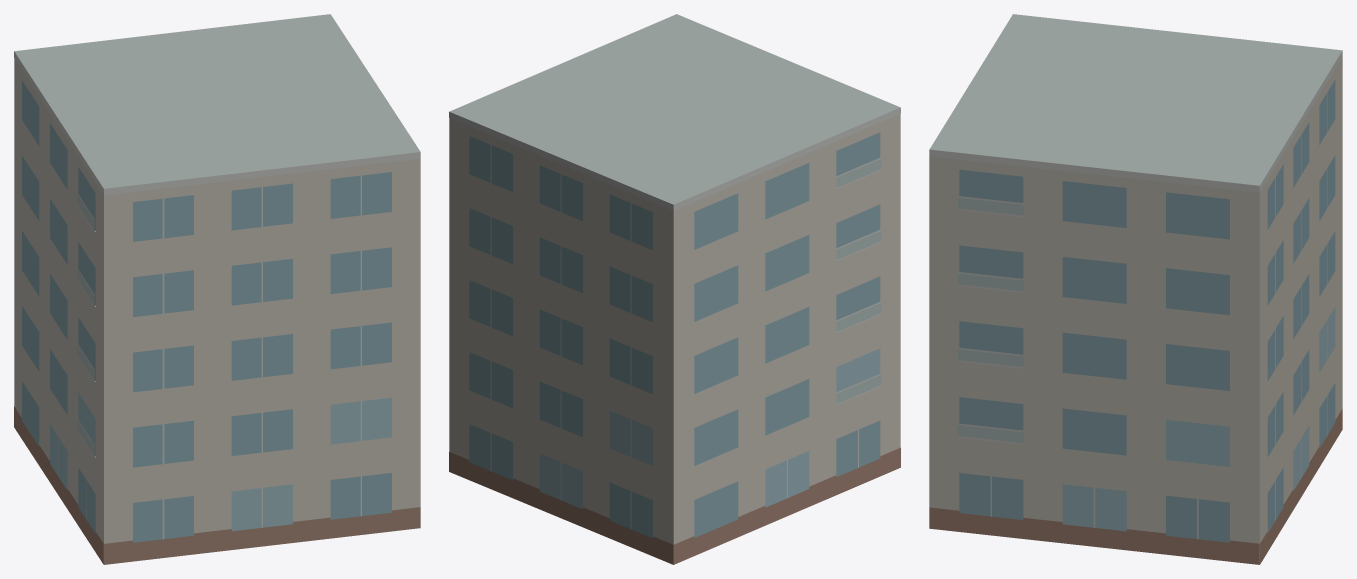
Rendered from survey-upis-32938870.glb.
The picture shows the model from 3 angles, left to right: view 1: azimuth 30°, elevation 25°; view 2: azimuth 150°, elevation 25°; view 3: azimuth 270°, elevation 25°; orthographic projection. The views are drawn at different scales.
Parts seen in each view (by area): view 1: survey-upis-32938870.tmp; view 2: survey-upis-32938870.tmp; view 3: survey-upis-32938870.tmp.
Boxes of the visible parts, x1,y1,x2,y2 form: survey-upis-32938870.tmp: (14,14,420,564); survey-upis-32938870.tmp: (449,14,900,564); survey-upis-32938870.tmp: (929,14,1342,564).
Bounding box in the file's own units: 13.52 × 13.9 × 13.74.
